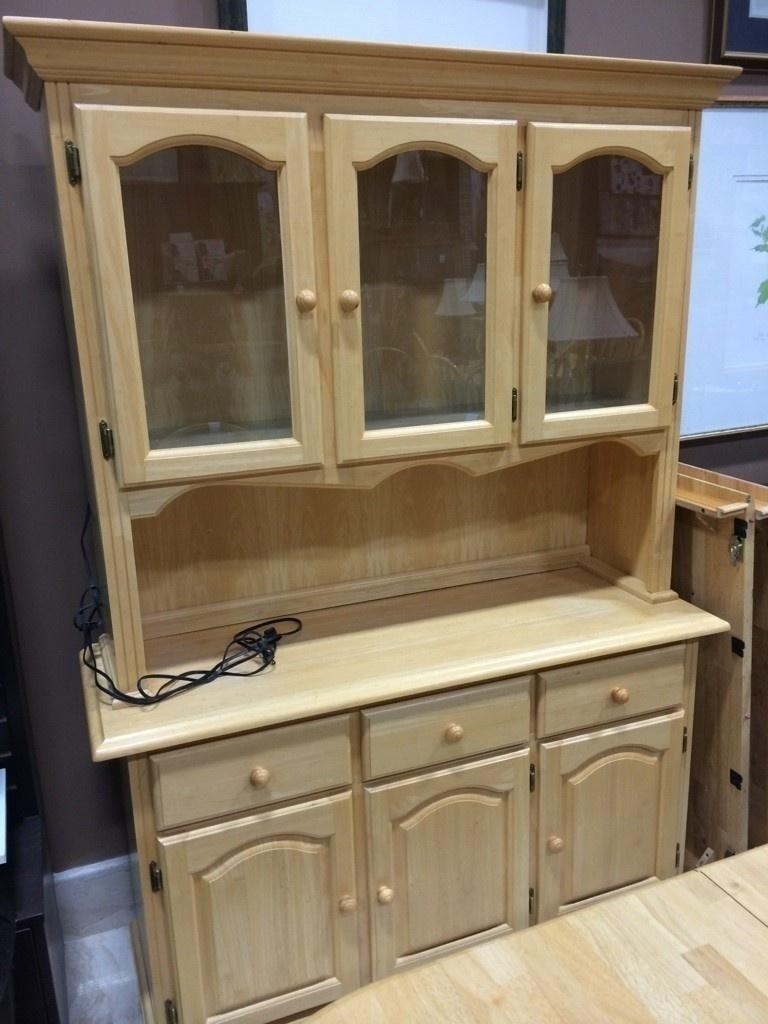cabinet_door: (106, 112, 312, 465), (337, 119, 520, 442), (520, 129, 679, 429), (180, 811, 363, 1020), (376, 773, 533, 950), (541, 725, 677, 892), (160, 739, 349, 816), (370, 688, 531, 764), (542, 661, 684, 726)
handle: (247, 761, 272, 800), (294, 281, 317, 322), (338, 283, 362, 320), (443, 718, 468, 753), (532, 278, 557, 313), (375, 879, 397, 917), (545, 830, 570, 863), (336, 889, 358, 923), (611, 679, 634, 710)
